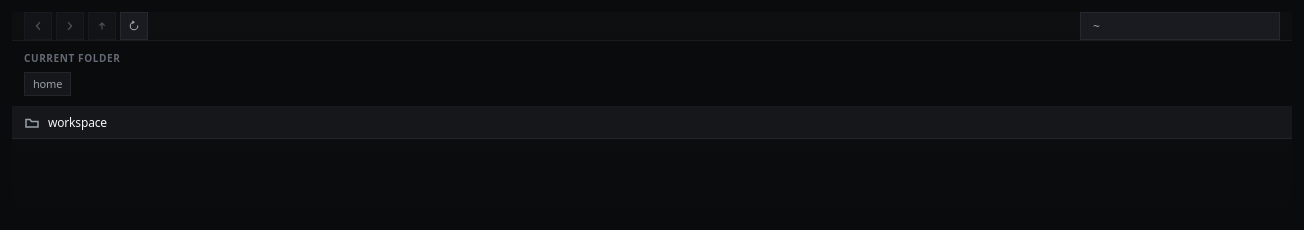
Test case: DirectoryBrowser › does not auto-select the descended folder on double-click
The image size is (1304, 230).
Double-click the button "workspace": (77, 122) [12,107,1292,139]
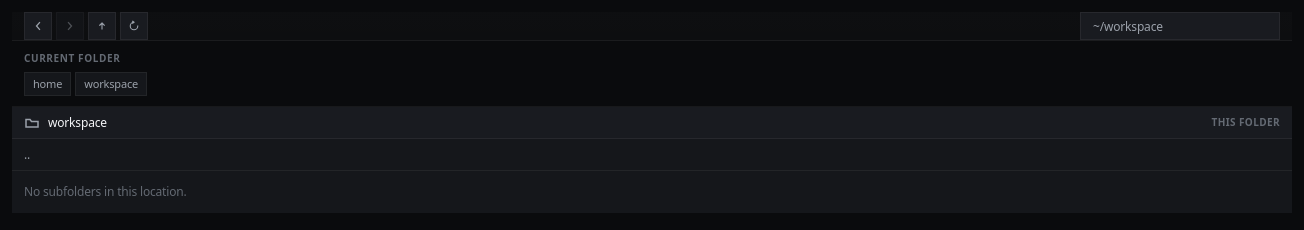
Expected: the button with aria-label "workspace, current folder" is shown, [12,107,1292,139]
